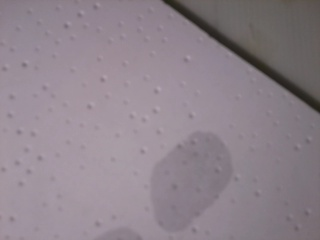Water_detected: (154, 148, 214, 213)
